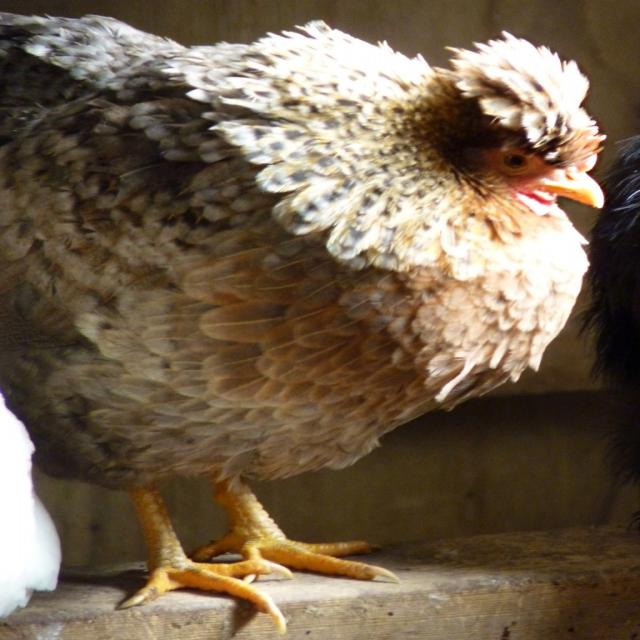Chicken: (13, 23, 621, 640)
